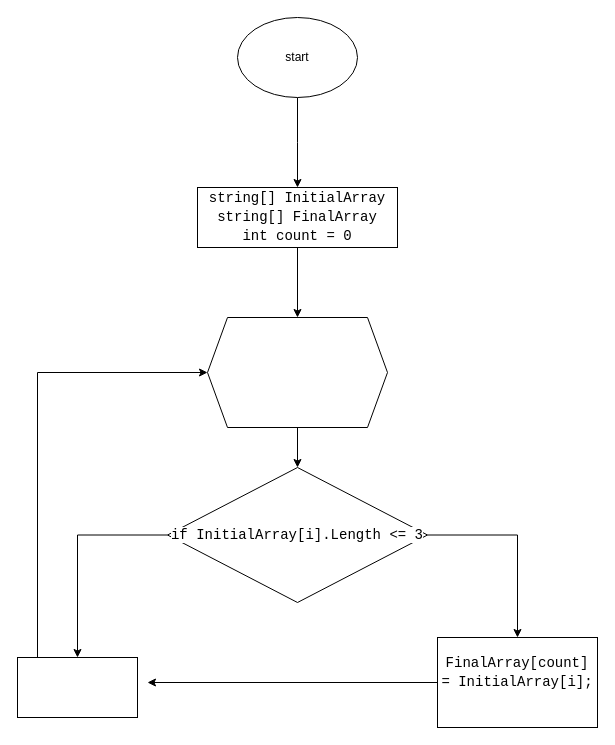
This 615x745 diagram has some shape labels left out. Here are the shapes that lost their labels. From the top down, the centre of each, then its label:
At [297,372]: "for int i = 0; i < InitialArray.Length; i++".
At [77,687]: "count++".
